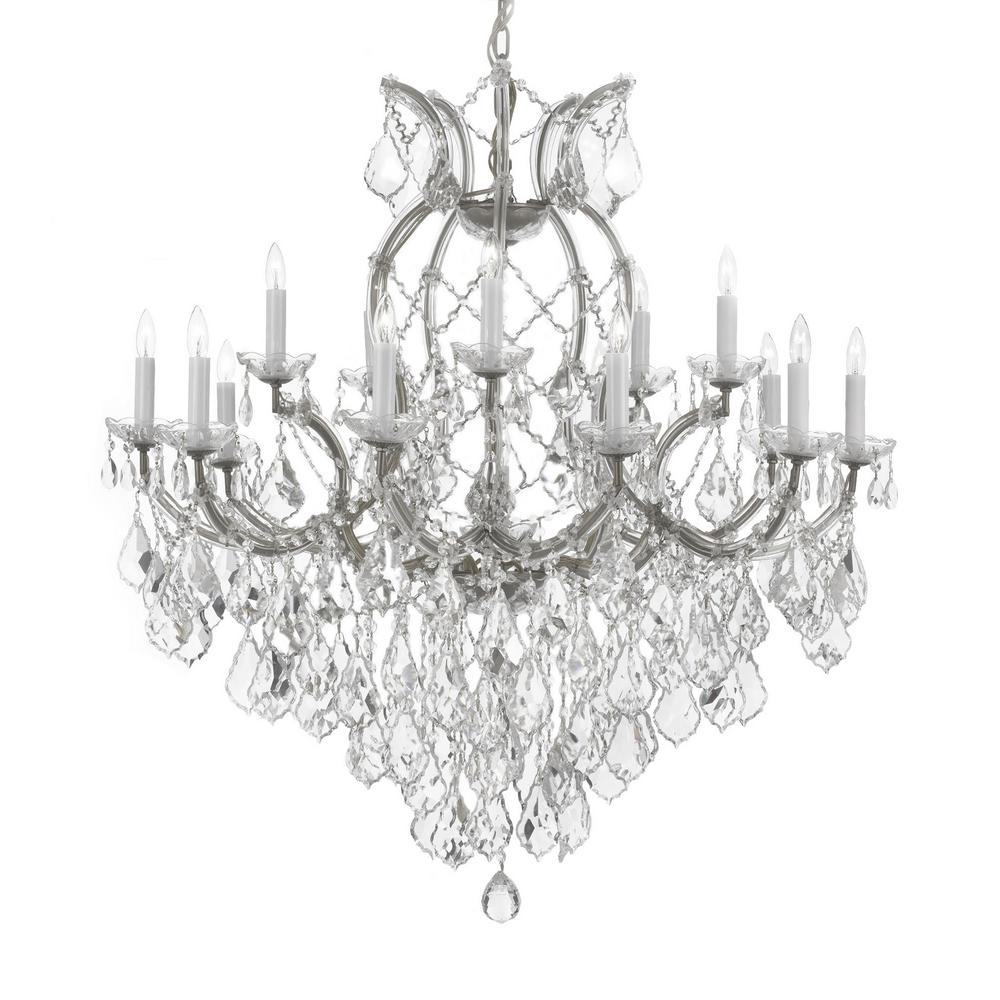chandelier: (89, 1, 929, 928)
